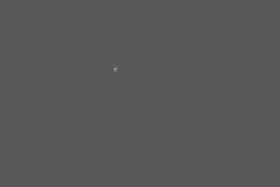Target: (115, 69, 117, 72)
